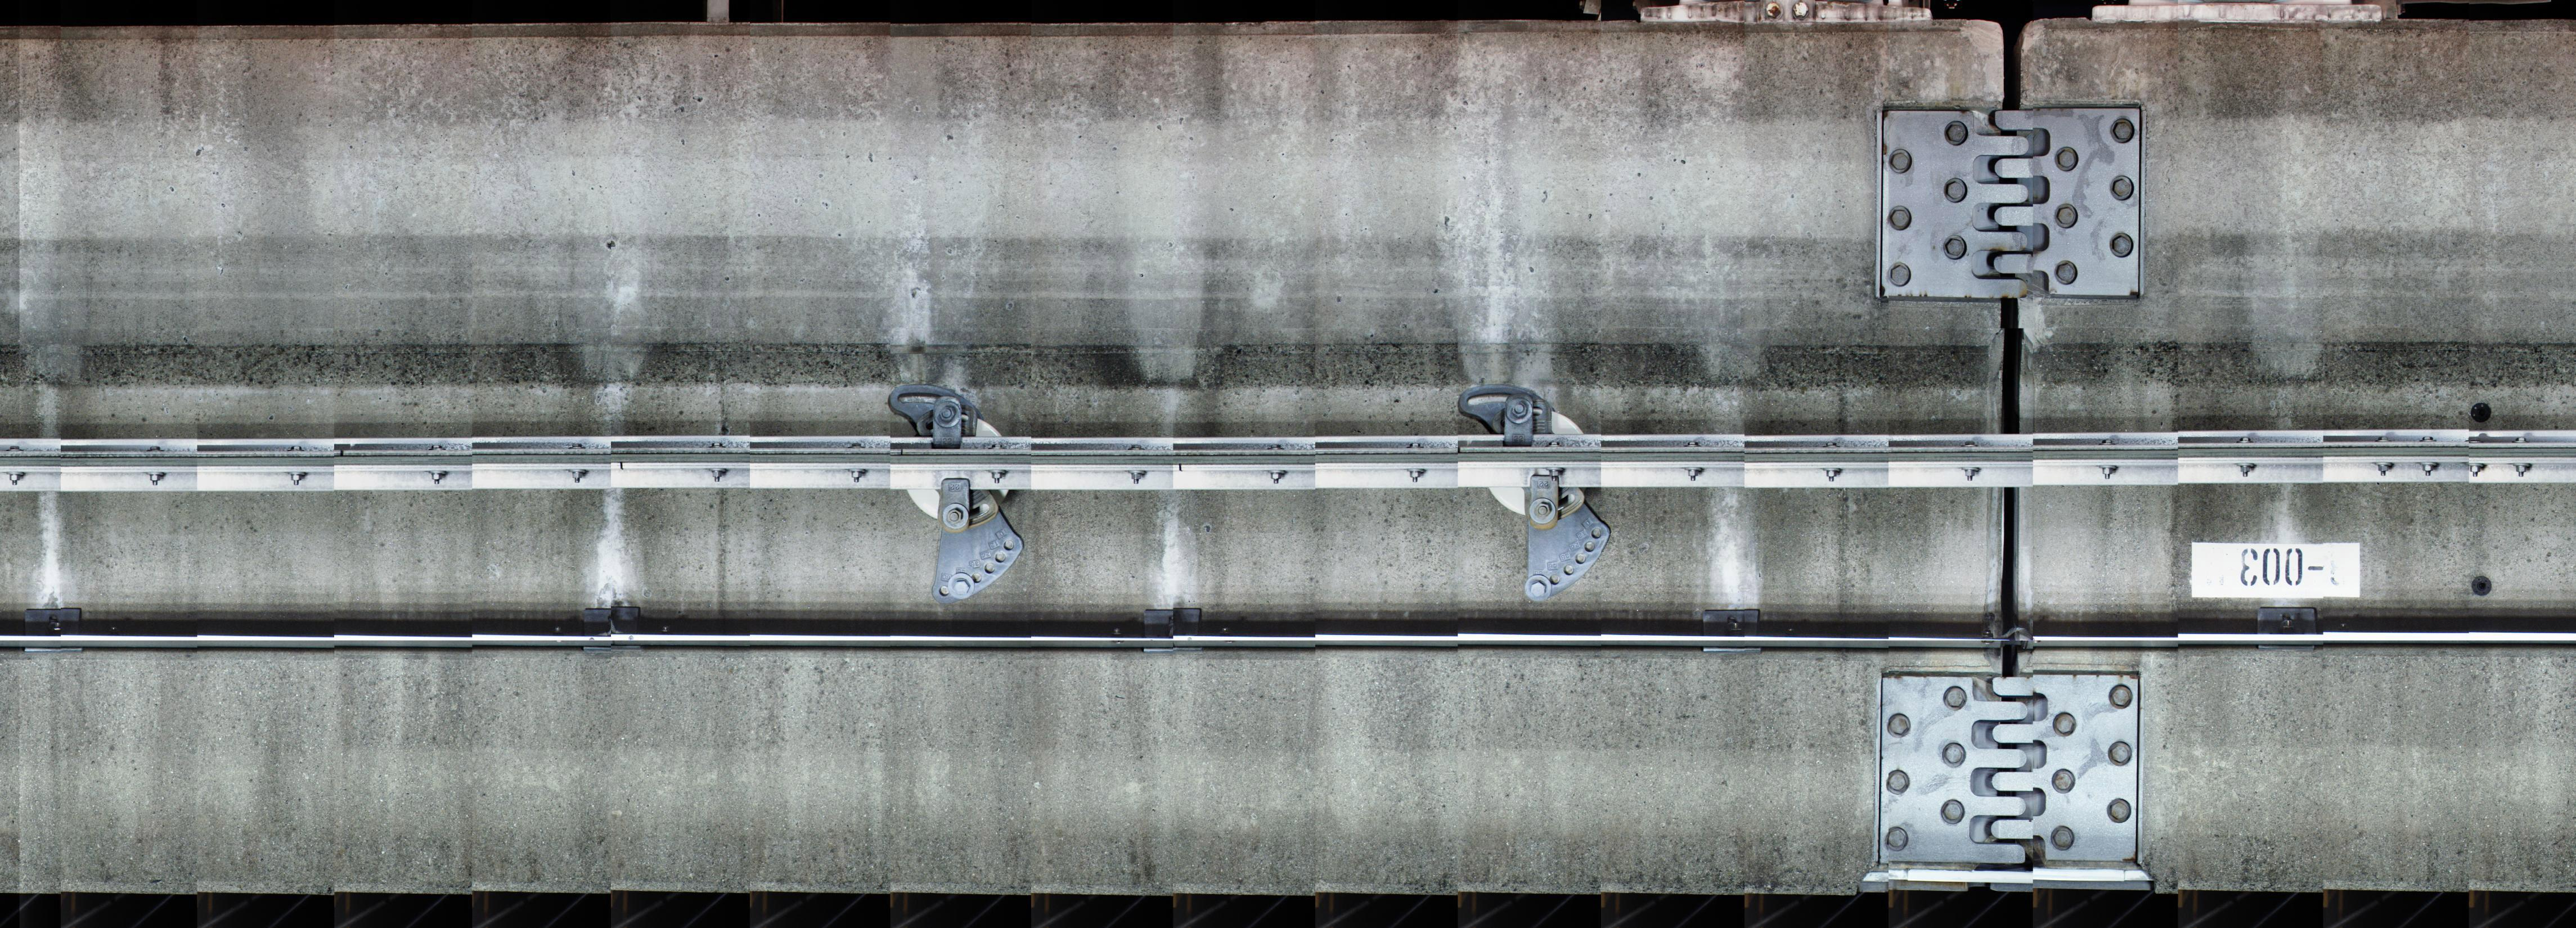concrete: (5, 21, 2001, 432), (0, 491, 2003, 887), (2021, 18, 2568, 429), (2016, 483, 2563, 889)
